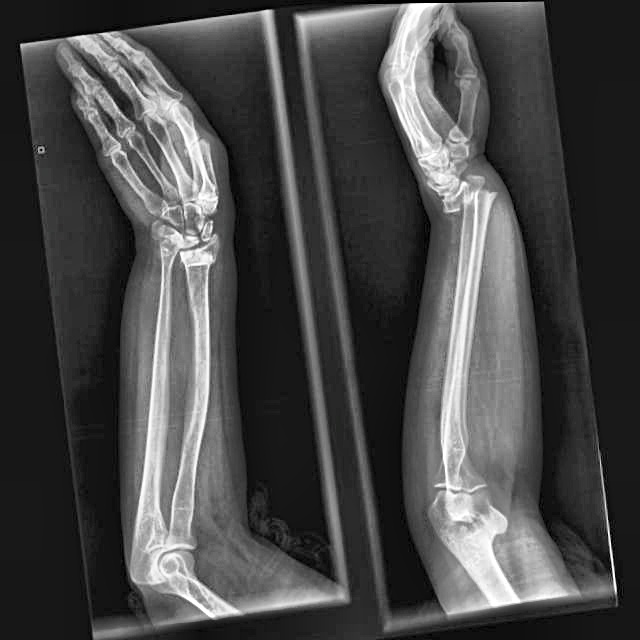Transverse: (418, 154, 514, 231)
